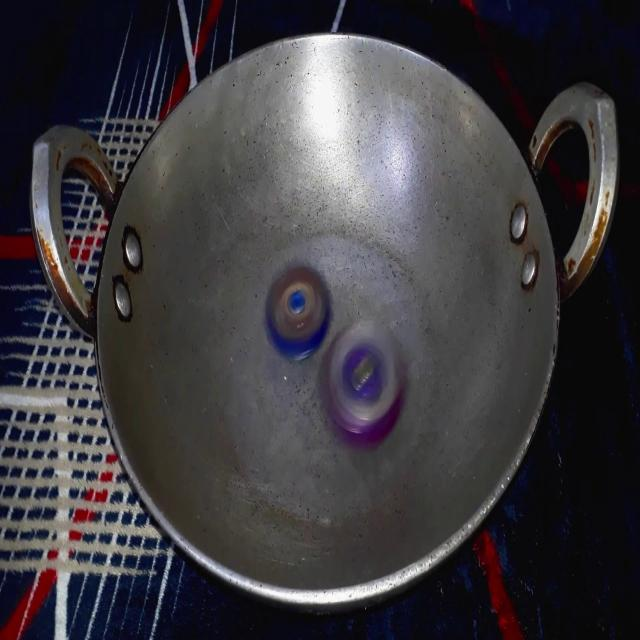beyblade: (312, 300, 414, 457), (260, 255, 338, 372)
